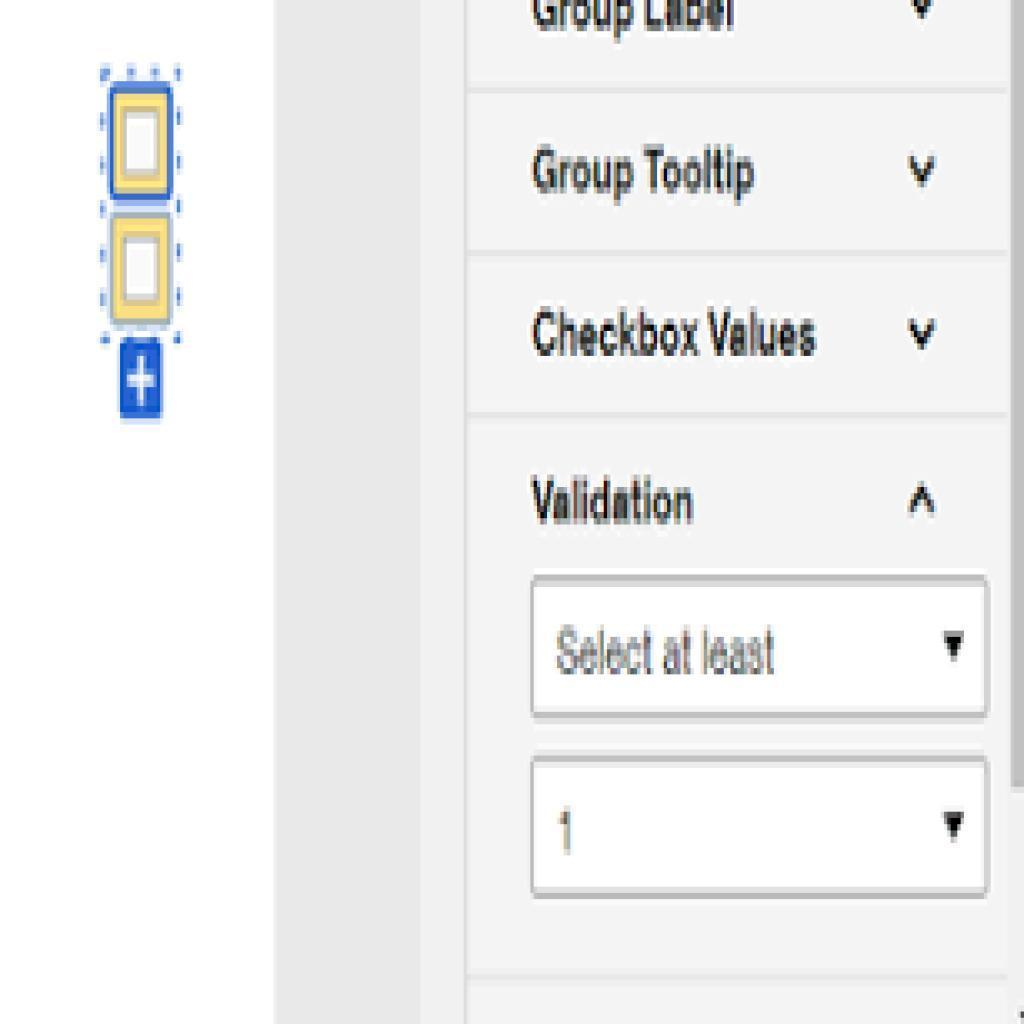dropdown: (469, 94, 1009, 259), (470, 259, 1011, 421), (535, 759, 988, 902), (535, 582, 989, 719)
icon: (905, 472, 941, 525)
